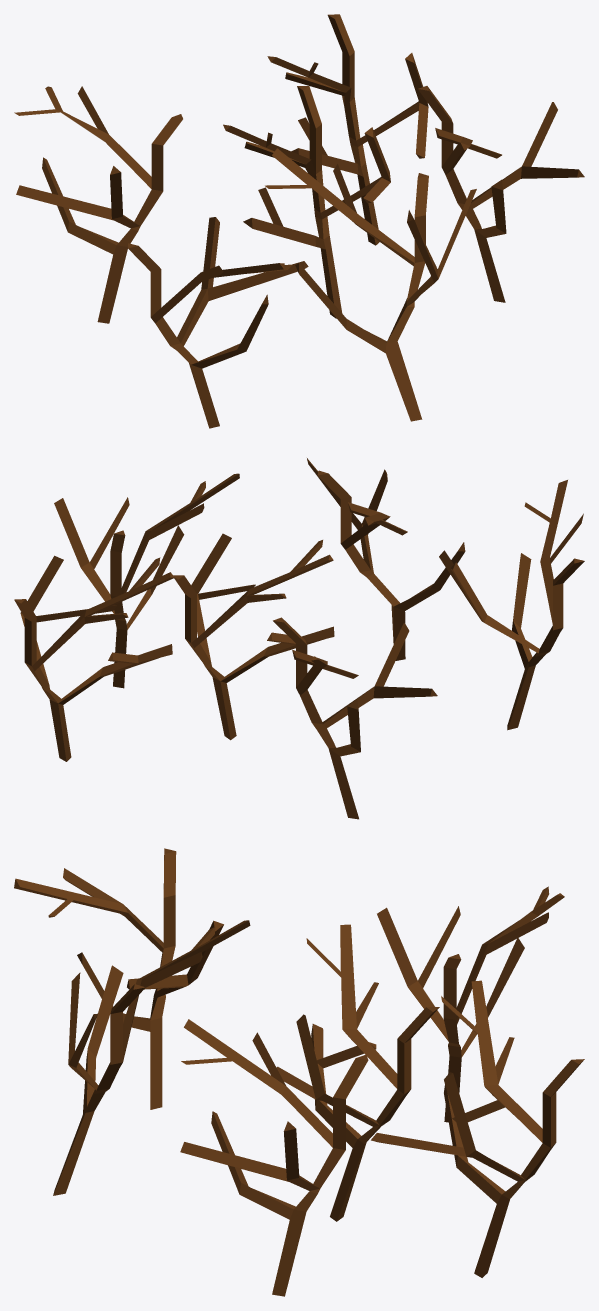
Rendered from suur poosas surnud.fbx.
3 views of the same model, one above another, from view 1: azimuth 30°, elevation 25°; view 2: azimuth 150°, elevation 25°; view 3: azimuth 270°, elevation 25° (orthographic). The views are drawn at different scales.
Parts seen in each view (by area): view 1: raagussuur.001; view 2: raagussuur.001; view 3: raagussuur.001.
Boxes of the visible parts, x1,y1,x2,y2 form: raagussuur.001: (14, 14, 584, 428); raagussuur.001: (14, 458, 584, 819); raagussuur.001: (14, 848, 584, 1296).
Size of the model in its own units: 234 by 102 by 215.
